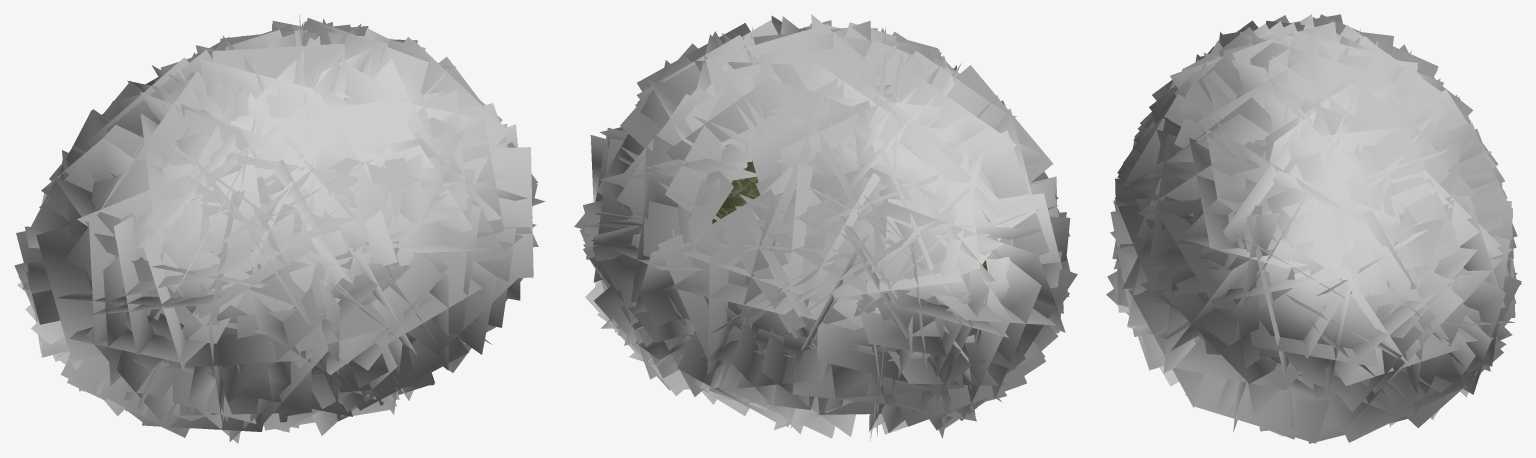
The model's file is SM_LeaveBush_02.fbx.
3 renders of one model, left to right at view 1: azimuth 30°, elevation 25°; view 2: azimuth 150°, elevation 25°; view 3: azimuth 270°, elevation 25°, orthographic. The views are drawn at different scales.
Parts seen in each view (by area): view 1: SM_LeaveBush_02_Leave; view 2: SM_LeaveBush_02_Leave, SM_LeaveBush_02; view 3: SM_LeaveBush_02_Leave.
Part boxes in pixels (x1=…): SM_LeaveBush_02_Leave: x1=14, y1=15, x2=545, y2=443; SM_LeaveBush_02_Leave: x1=574, y1=14, x2=1077, y2=441; SM_LeaveBush_02: x1=712, y1=161, x2=987, y2=270; SM_LeaveBush_02_Leave: x1=1106, y1=14, x2=1521, y2=443.
Bounding box in the file's own units: 211 × 157 × 166.
